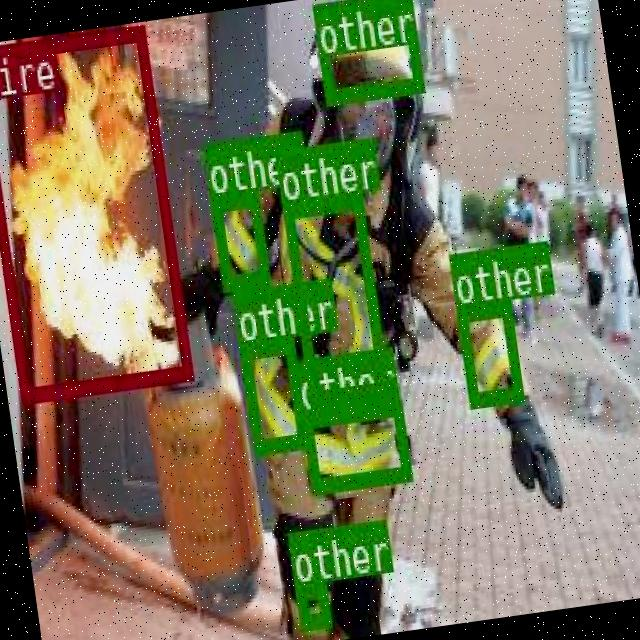fire: (0, 22, 191, 399)
